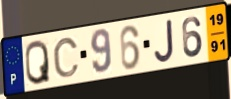6: (118, 23, 141, 72), (181, 15, 205, 59)
9: (89, 27, 113, 76)
C: (51, 36, 81, 80)
J: (153, 17, 176, 64)
Q: (24, 38, 52, 86)
